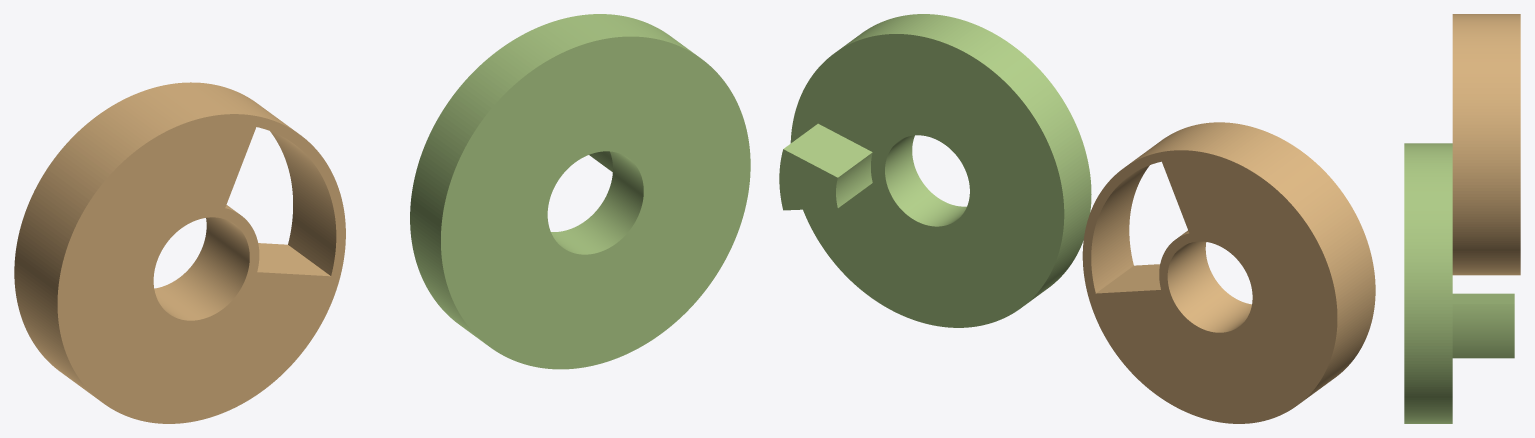
File: dog_slot_coupling_demo.glb
3 views of the same model, side by side, from view 1: azimuth 30°, elevation 25°; view 2: azimuth 150°, elevation 25°; view 3: azimuth 270°, elevation 25° (orthographic). The views are drawn at different scales.
Visible parts, largest first — view 1: dog_collar, slotted_boss; view 2: dog_collar, slotted_boss; view 3: slotted_boss, dog_collar.
Boxes of the visible parts, left/top/right/bottom form: dog_collar: left=410, top=14, right=750, bottom=369; slotted_boss: left=14, top=82, right=345, bottom=423; dog_collar: left=779, top=14, right=1091, bottom=327; slotted_boss: left=1082, top=122, right=1375, bottom=423; slotted_boss: left=1452, top=14, right=1520, bottom=275; dog_collar: left=1404, top=143, right=1514, bottom=423.
Bounding box in the file's own units: 62 × 29 × 12.
